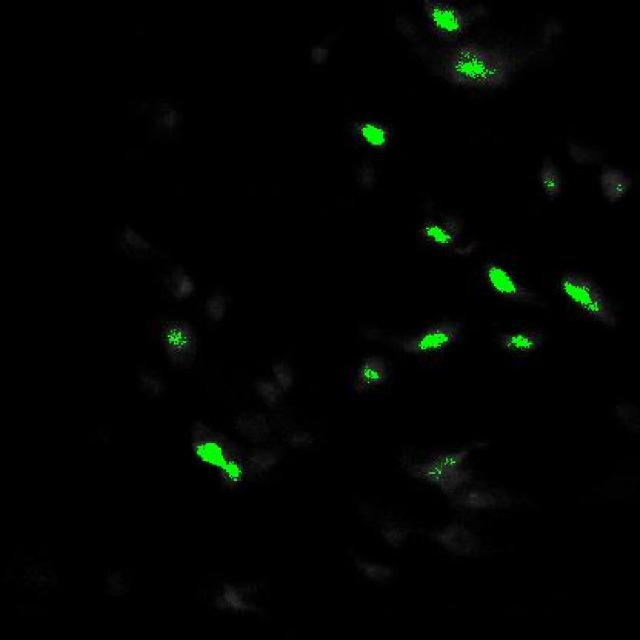Cell: (565, 282, 606, 311), (431, 5, 464, 37), (200, 447, 240, 473), (488, 268, 516, 292), (422, 332, 446, 351), (365, 128, 386, 148)
